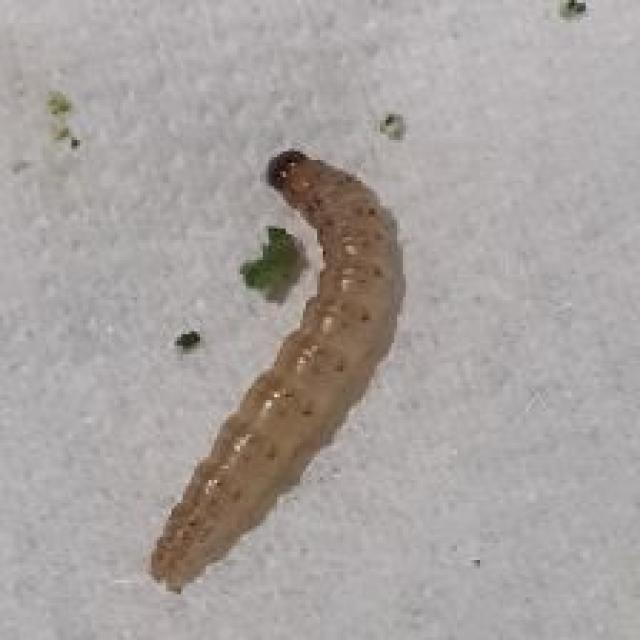white mucus: (132, 76, 428, 597)
